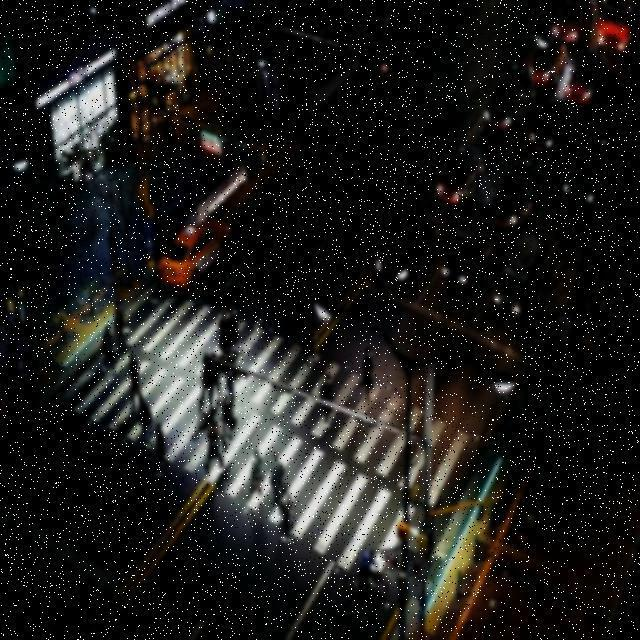Pedestrian crosswalk: (54, 294, 463, 603)
